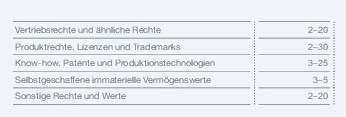table: (0, 0, 346, 117)
